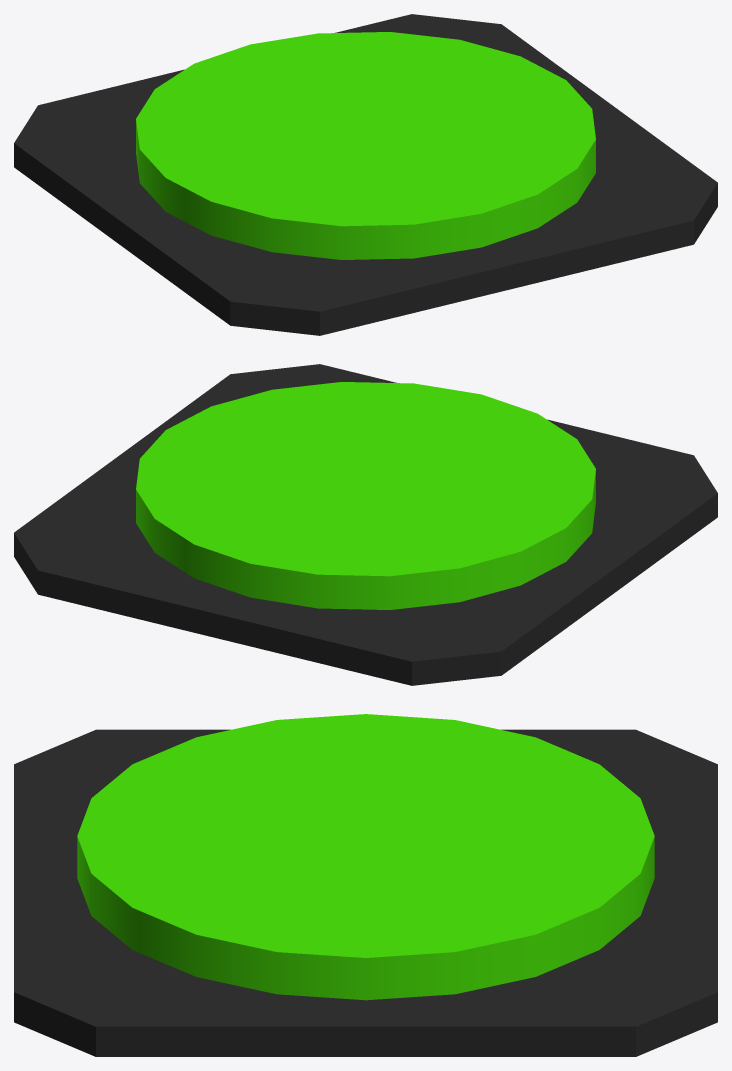
File: Green Button.fbx
3 renders of one model, top to bottom at view 1: azimuth 30°, elevation 25°; view 2: azimuth 150°, elevation 25°; view 3: azimuth 270°, elevation 25°, orthographic. The views are drawn at different scales.
Visible parts, largest first — view 1: pCylinder1, pCube1; view 2: pCylinder1, pCube1; view 3: pCylinder1, pCube1.
Boxes of the visible parts, left/top/right/bottom form: pCylinder1: left=136, top=32, right=595, bottom=259; pCube1: left=14, top=14, right=717, bottom=335; pCylinder1: left=136, top=382, right=595, bottom=609; pCube1: left=14, top=364, right=717, bottom=685; pCylinder1: left=77, top=714, right=654, bottom=1000; pCube1: left=14, top=729, right=717, bottom=1056.
Size of the model in its own units: 4.91 by 0.5585 by 4.92.
